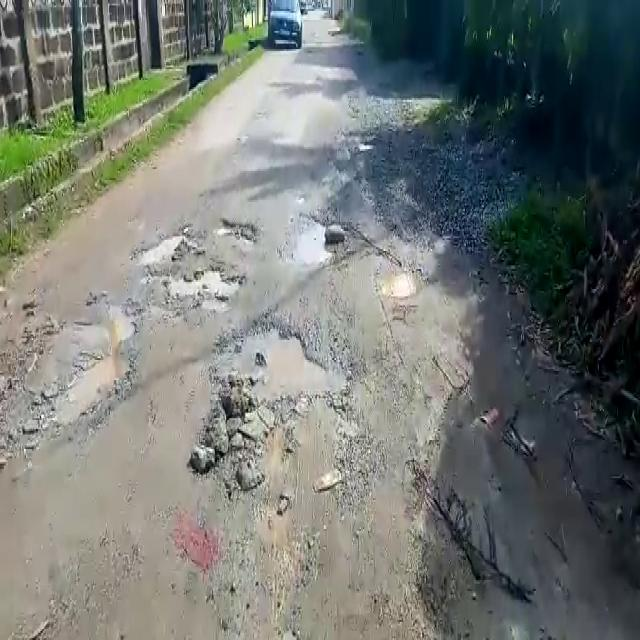Pothole: (5, 300, 140, 448), (206, 316, 352, 396), (161, 265, 244, 301), (285, 213, 334, 265), (137, 229, 188, 271), (371, 262, 418, 304), (215, 217, 261, 246)
